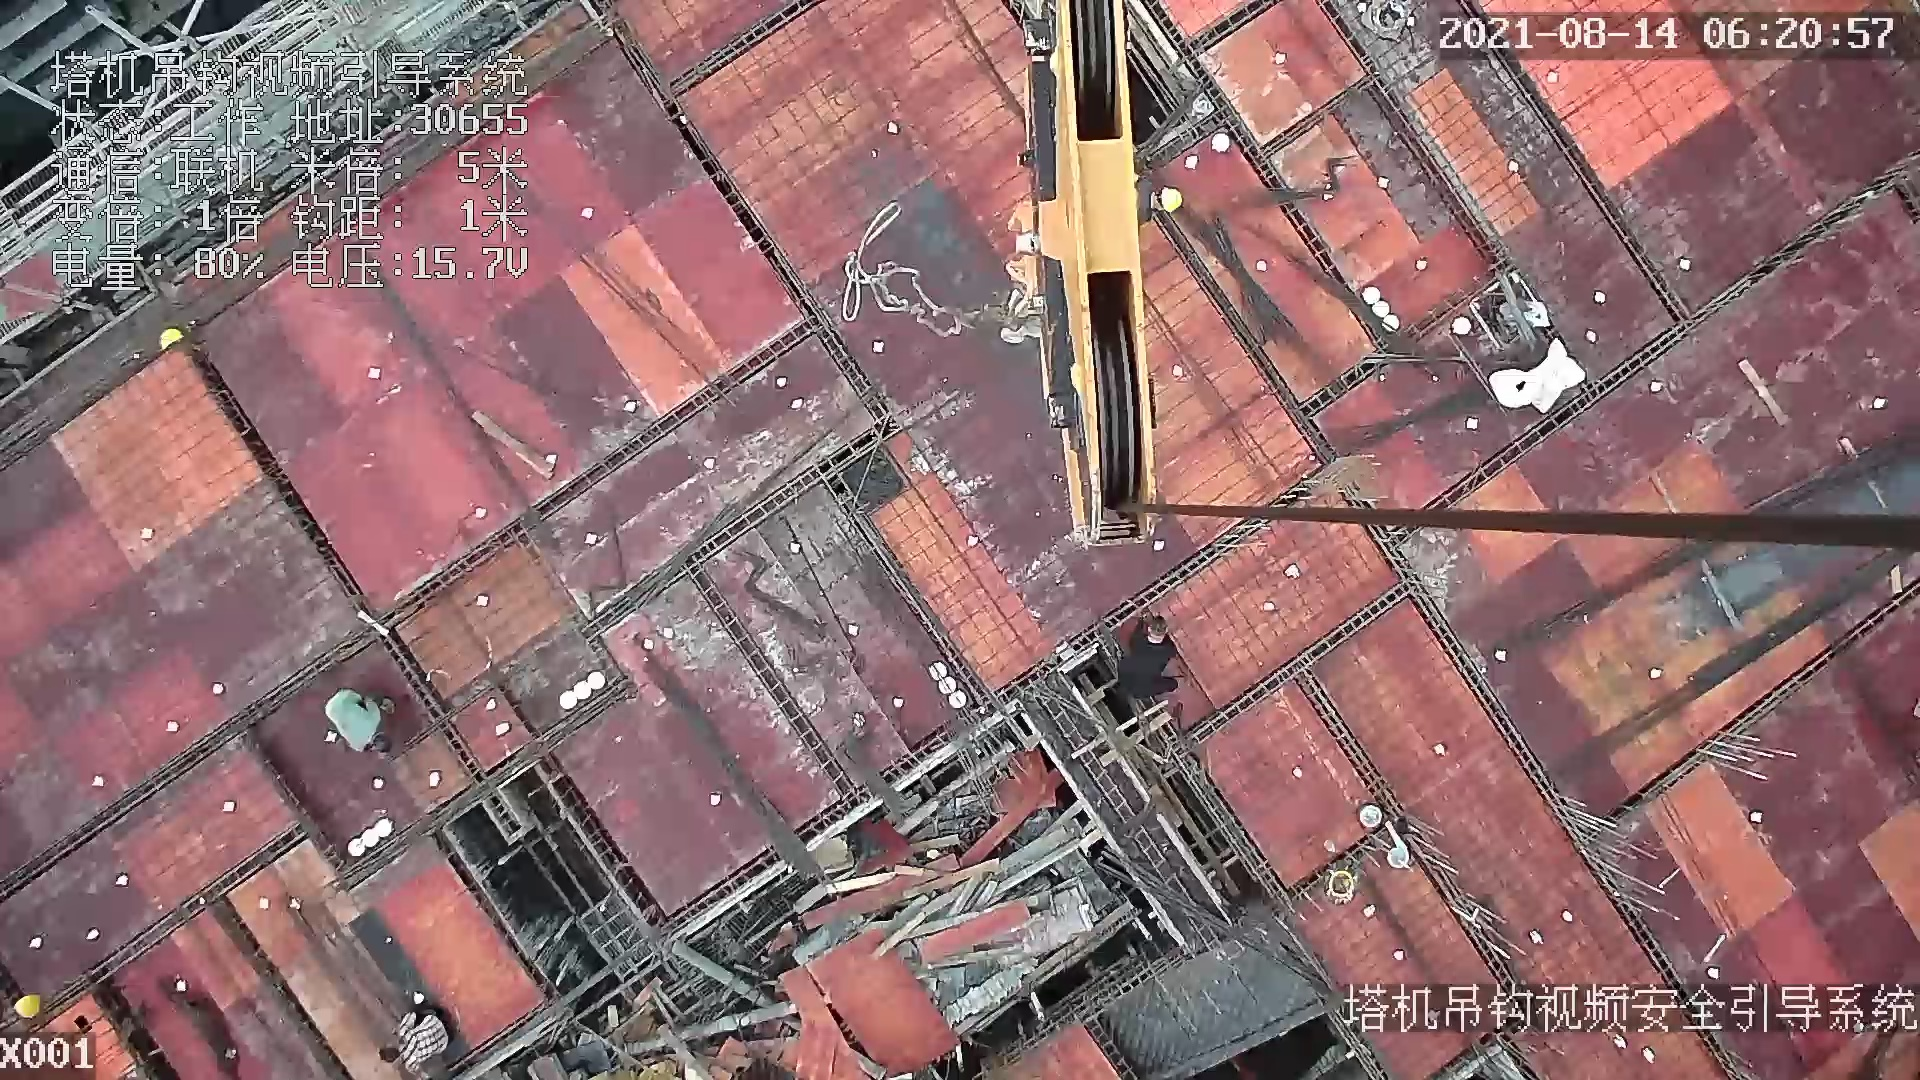helmet: (1155, 185, 1186, 216), (13, 995, 46, 1020)
hook: (994, 1, 1169, 550)
person: (376, 993, 460, 1080), (1114, 613, 1178, 705), (328, 685, 394, 762)
